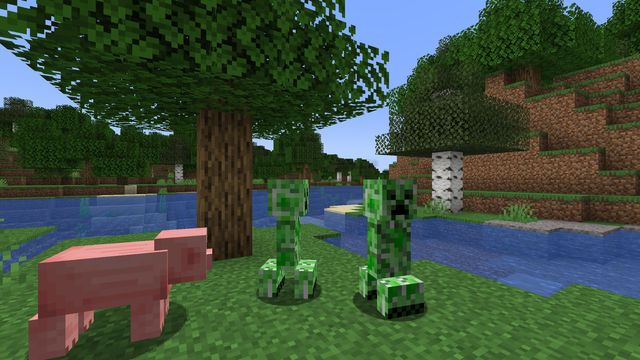cochons: (41, 234, 166, 355)
creepers: (356, 173, 422, 318), (263, 173, 316, 302)
